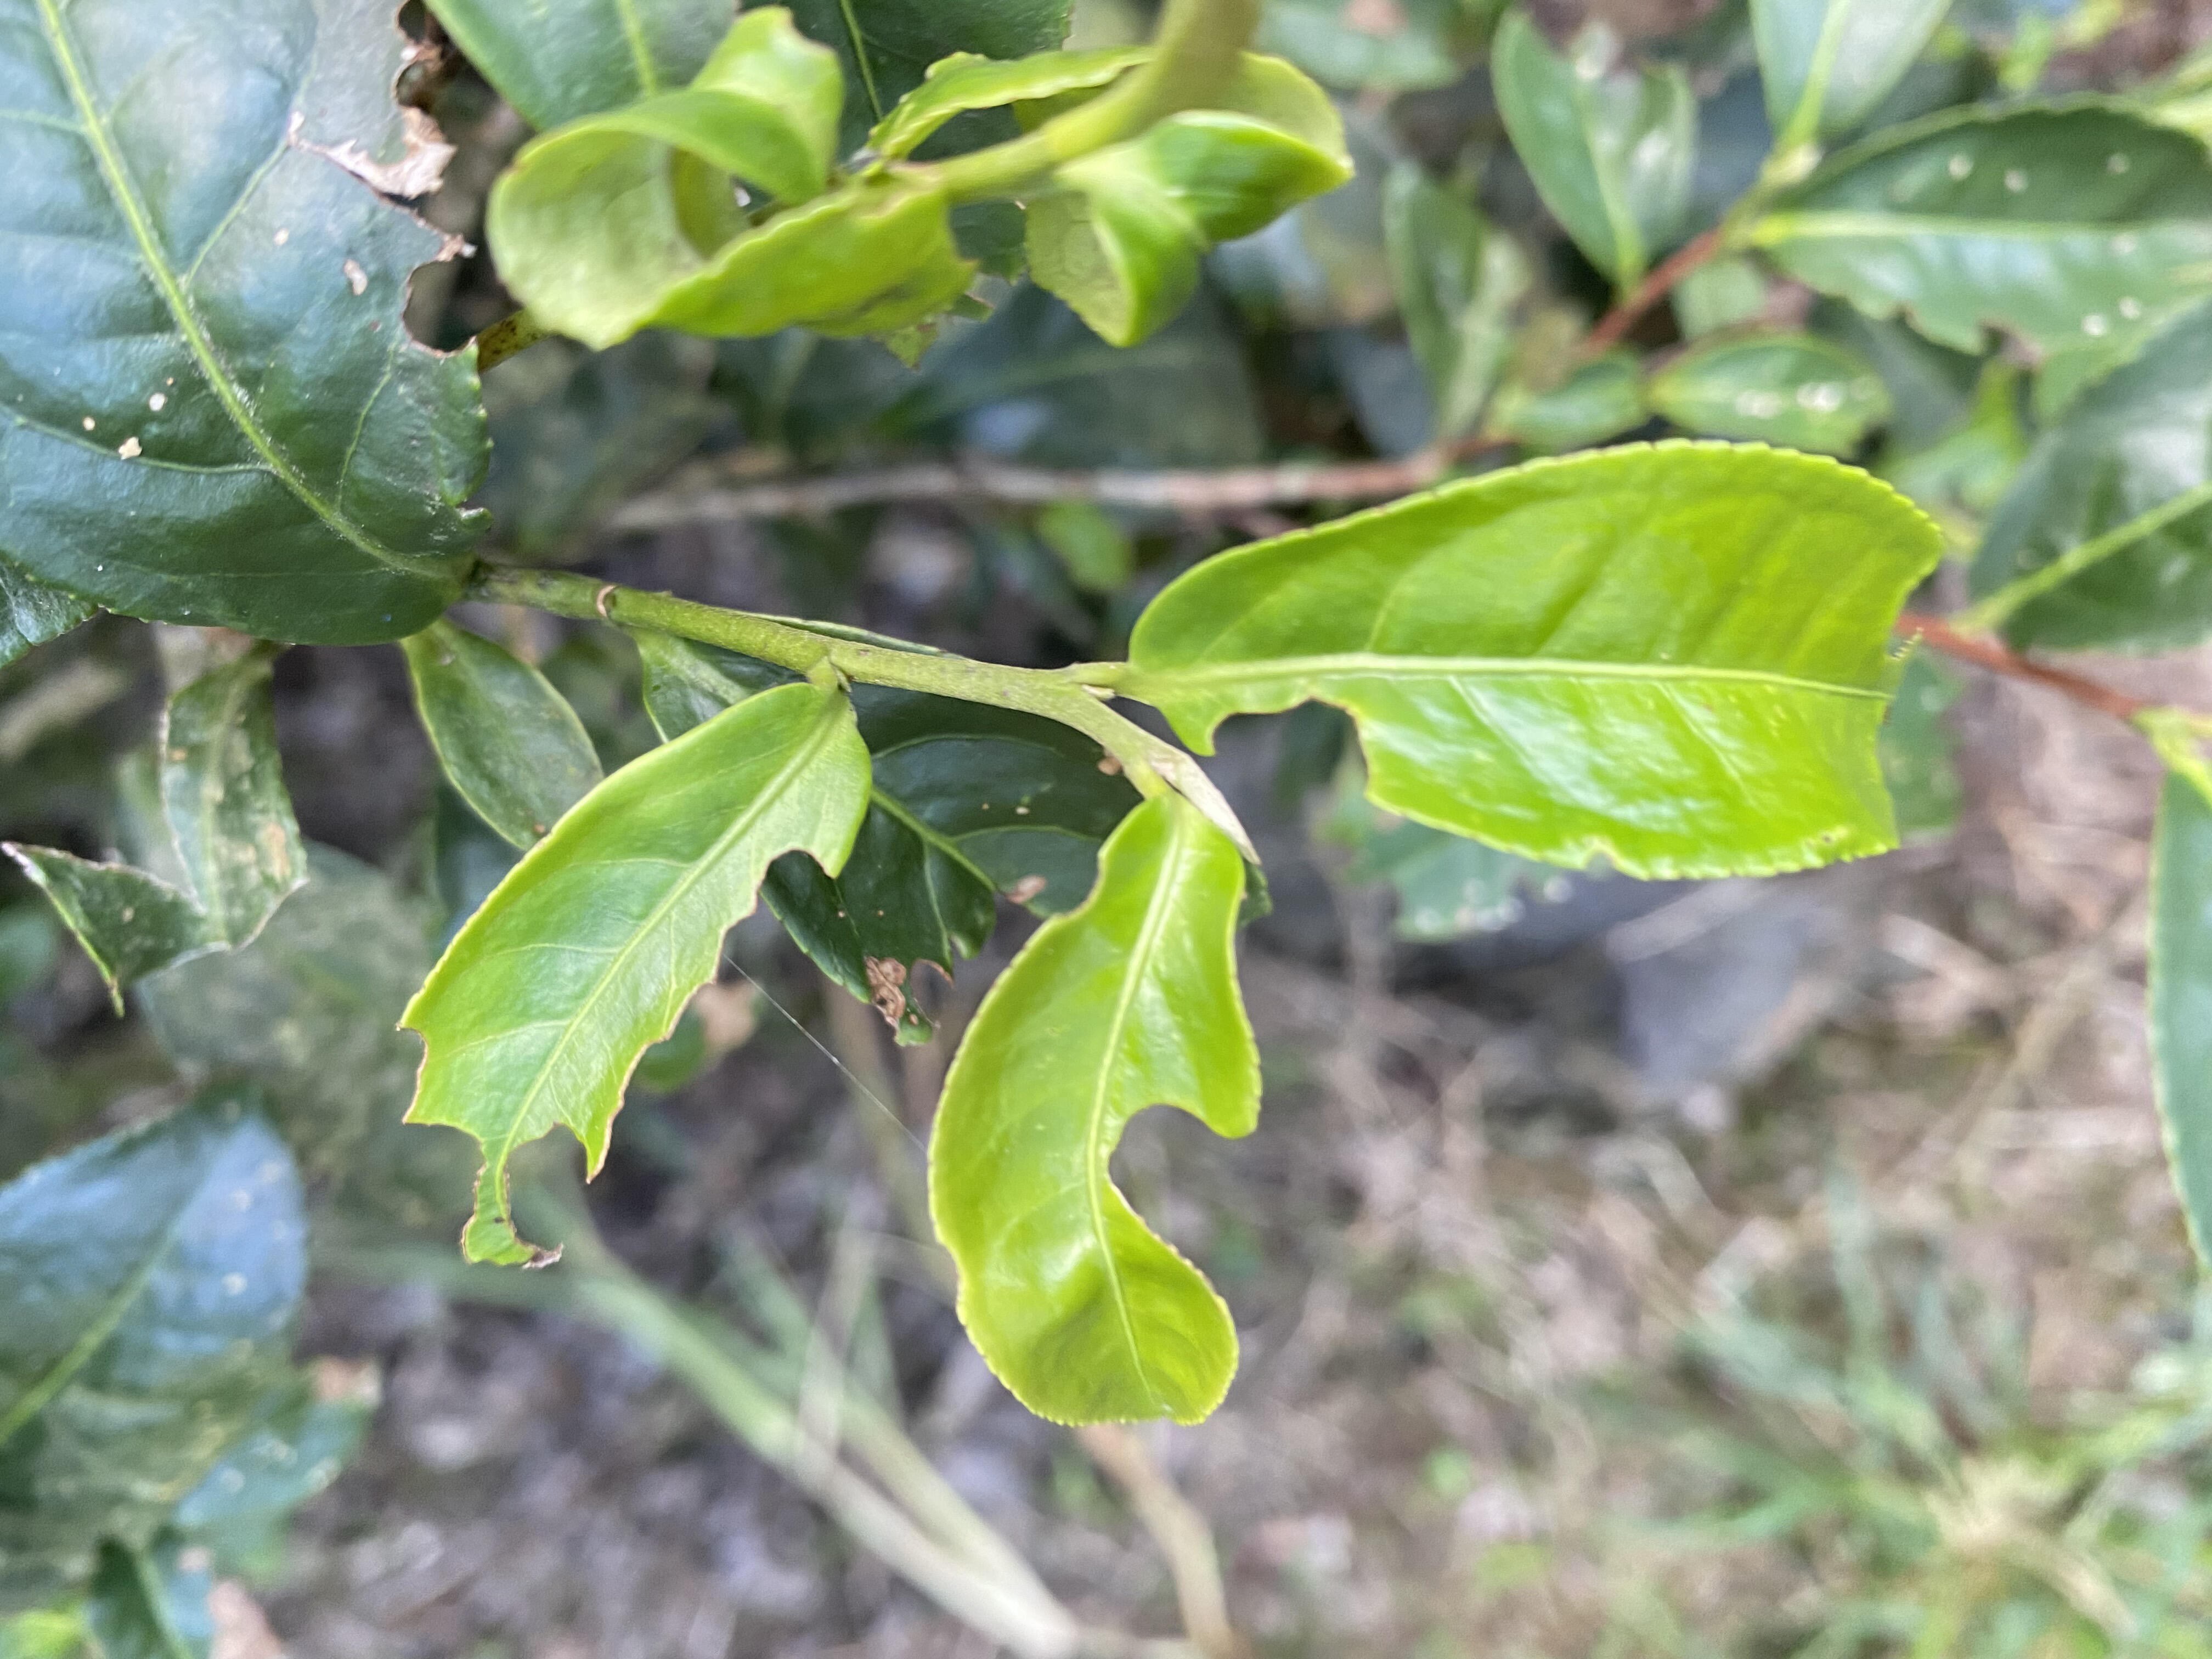chihuo_high: (1123, 430, 1951, 885), (2, 2, 498, 652), (394, 681, 878, 1277), (923, 793, 1263, 1429), (2, 627, 317, 1021)
